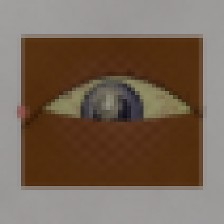corneal_ulcer: (81, 82, 134, 125)
